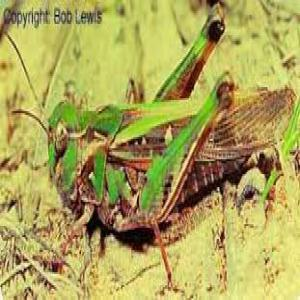locust: (29, 38, 300, 271)
